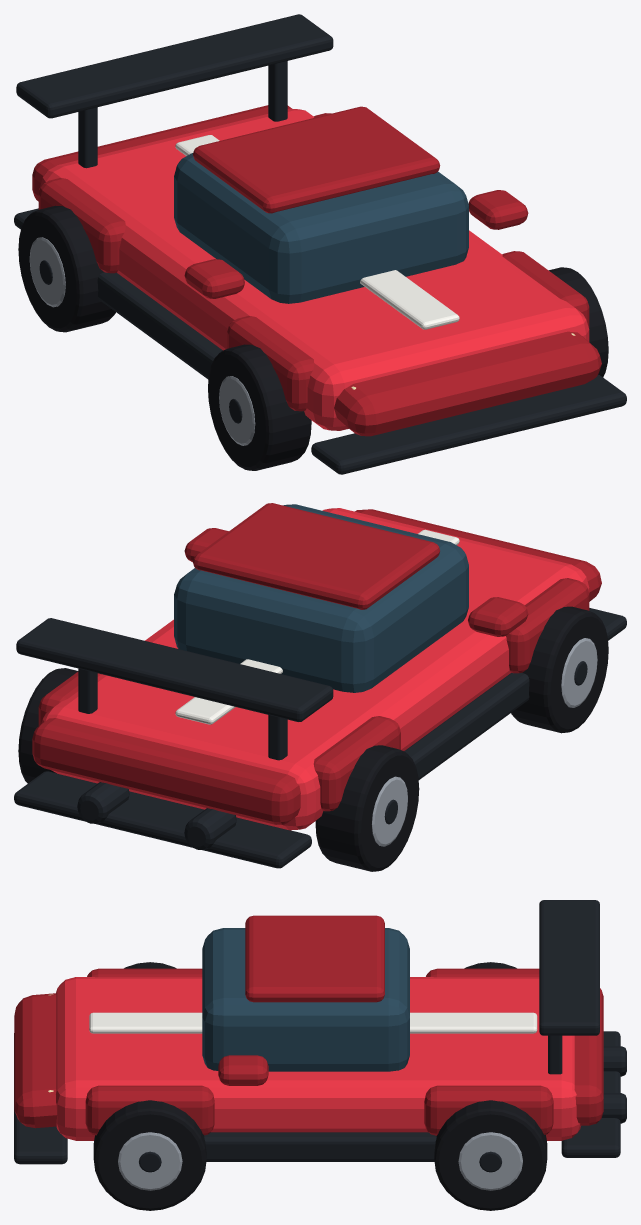
Rendered from gt_car.glb.
3 views of the same model, one above another, from view 1: azimuth 30°, elevation 25°; view 2: azimuth 150°, elevation 25°; view 3: azimuth 270°, elevation 25° (orthographic). The views are drawn at different scales.
Parts seen in each view (by area): view 1: Body_Main, Cabin, Roof, Body_Nose, Wing, Splitter, Wheel_FL_Tire, Wheel_RL_Tire, Skirt_L, Fender_R_-1, Fender_F_-1, Stripe (+9 smaller); view 2: Body_Main, Cabin, Roof, Body_Rear, Wing, Diffuser, Wheel_RL_Tire, Wheel_FL_Tire, Skirt_L, Fender_R_-1, Fender_F_-1, Body_Nose (+12 smaller); view 3: Body_Main, Cabin, Roof, Wing, Wheel_FR_Tire, Wheel_RR_Tire, Skirt_R, Body_Nose, Stripe, Fender_F_1, Fender_R_1, Body_Rear (+10 smaller).
Part boxes in pixels (x1=…): Body_Main: x1=39, y1=108, x2=589, y2=430; Cabin: x1=174, y1=153, x2=468, y2=303; Roof: x1=193, y1=106, x2=440, y2=213; Body_Nose: x1=334, y1=331, x2=601, y2=436; Wing: x1=16, y1=14, x2=333, y2=118; Splitter: x1=311, y1=374, x2=626, y2=474; Wheel_FL_Tire: x1=208, y1=344, x2=311, y2=470; Wheel_RL_Tire: x1=18, y1=205, x2=115, y2=332; Skirt_L: x1=97, y1=272, x2=222, y2=379; Fender_R_-1: x1=38, y1=178, x2=125, y2=273; Fender_F_-1: x1=227, y1=316, x2=314, y2=411; Stripe: x1=175, y1=135, x2=459, y2=329; Body_Main: x1=41, y1=508, x2=589, y2=830; Cabin: x1=174, y1=504, x2=468, y2=692; Roof: x1=193, y1=503, x2=439, y2=609; Body_Rear: x1=32, y1=718, x2=300, y2=824; Wing: x1=16, y1=618, x2=333, y2=721; Diffuser: x1=14, y1=771, x2=311, y2=868; Wheel_RL_Tire: x1=315, y1=745, x2=419, y2=871; Wheel_FL_Tire: x1=511, y1=606, x2=608, y2=733; Skirt_L: x1=404, y1=673, x2=529, y2=779; Fender_R_-1: x1=313, y1=716, x2=400, y2=811; Fender_F_-1: x1=506, y1=578, x2=589, y2=673; Body_Nose: x1=355, y1=509, x2=601, y2=601; Body_Main: x1=56, y1=977, x2=580, y2=1140; Cabin: x1=202, y1=928, x2=409, y2=1071; Roof: x1=245, y1=915, x2=384, y2=1002; Wing: x1=539, y1=900, x2=599, y2=1035; Wheel_FR_Tire: x1=93, y1=1100, x2=206, y2=1210; Wheel_RR_Tire: x1=434, y1=1100, x2=547, y2=1210; Skirt_R: x1=204, y1=1132, x2=436, y2=1161; Body_Nose: x1=14, y1=993, x2=57, y2=1128; Stripe: x1=89, y1=1012, x2=537, y2=1033; Fender_F_1: x1=85, y1=1085, x2=214, y2=1135; Fender_R_1: x1=424, y1=1085, x2=553, y2=1135; Body_Rear: x1=574, y1=988, x2=603, y2=1125.
Bounding box in the file's own units: 2.01 × 1.15 × 3.42.
